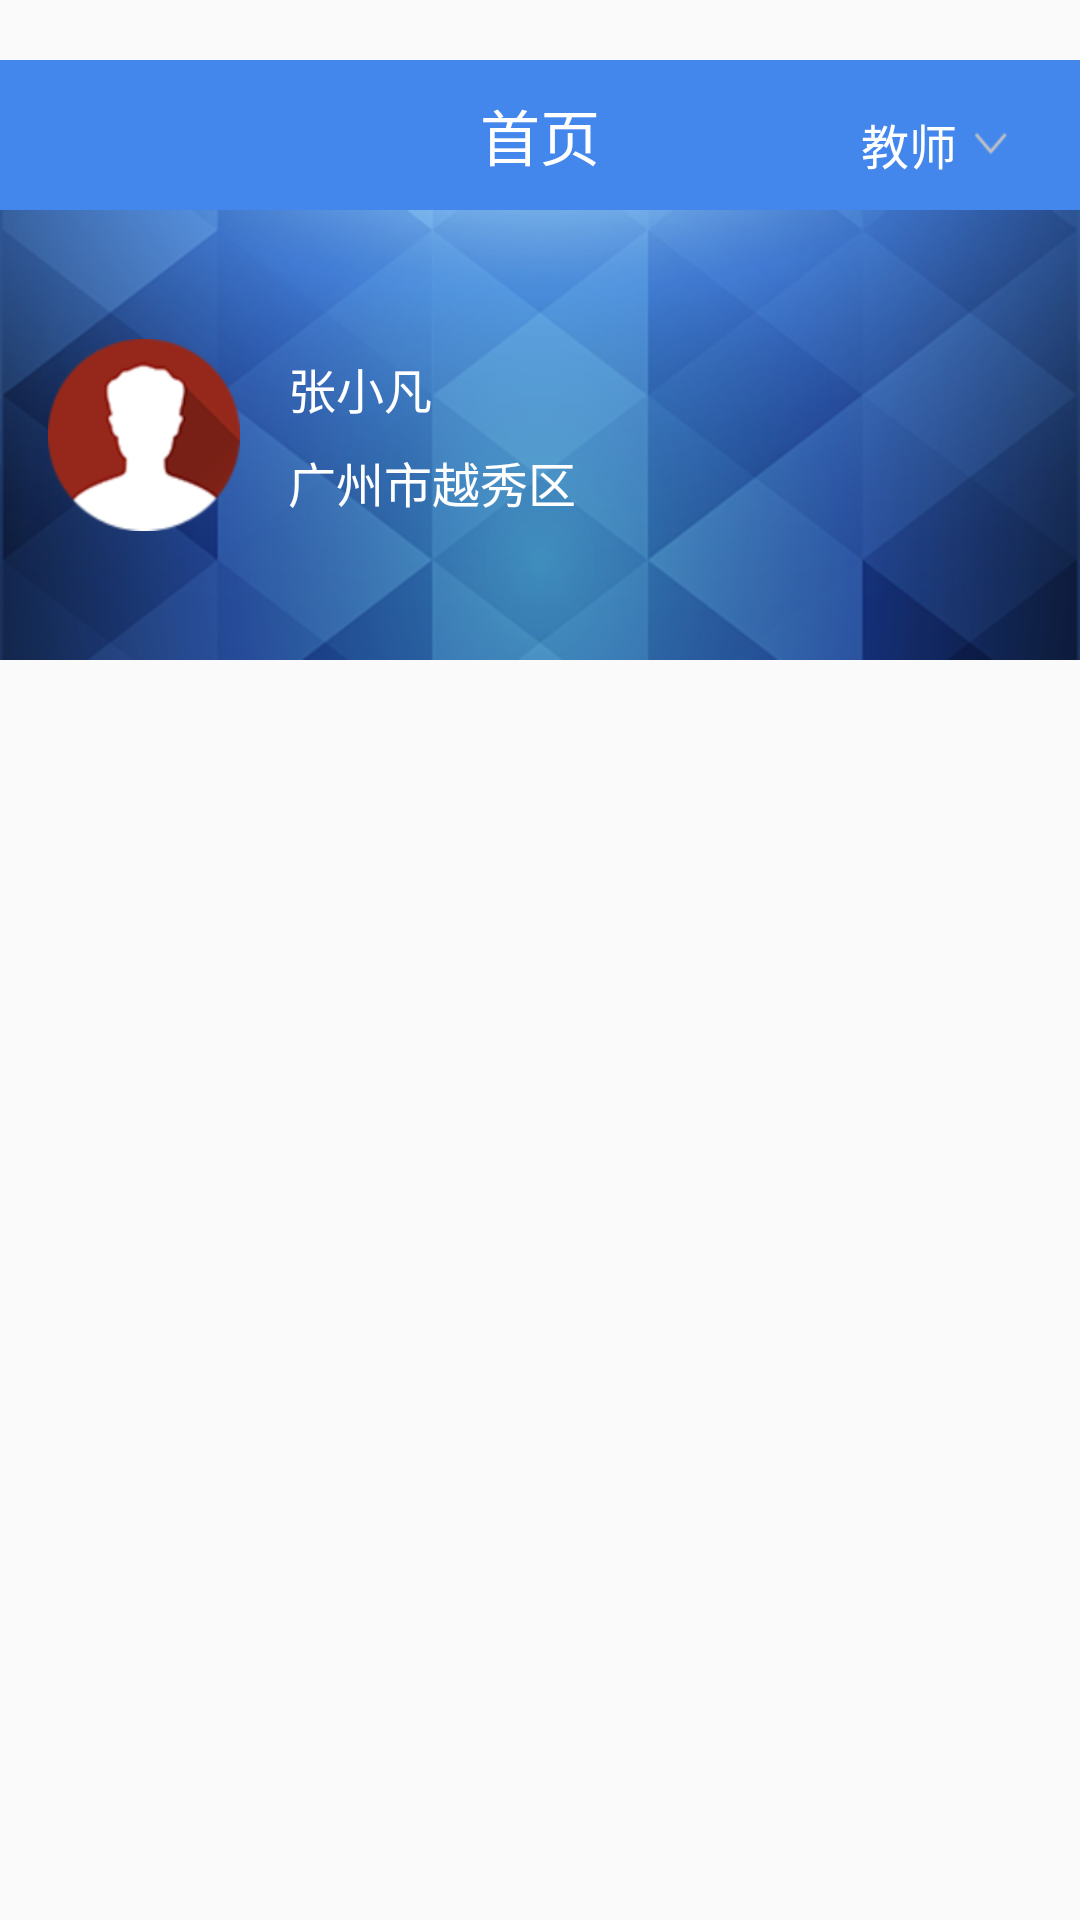

Where to tap for icons on this 1080px×1920px app screen, as point (x, y):
userimg: point (144, 435)
